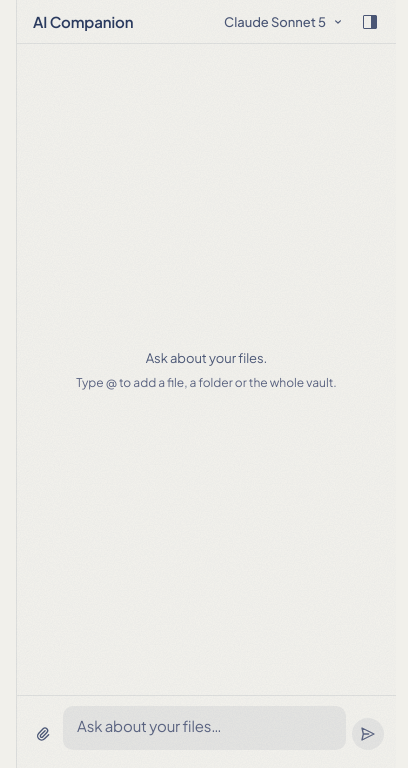
Scenario: CompanionPanel › lists the commands after a slash, filters them and completes one with Enter
The image size is (408, 768).
Type "/" into the text box named "Message the AI" at (204, 728), box [63, 706, 346, 750]
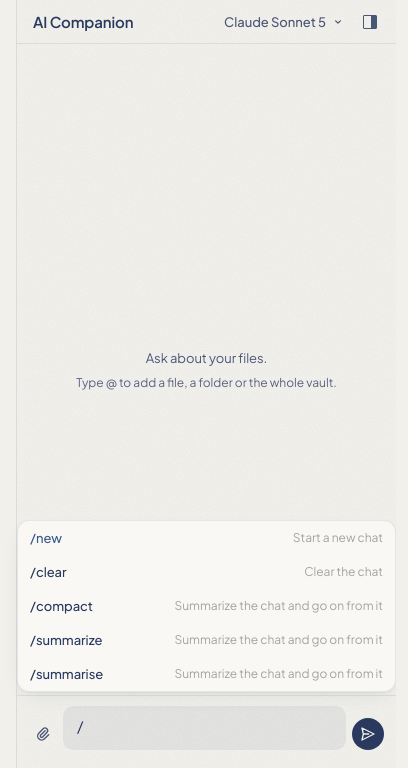
Now the option "/clear Clear the chat" is shown, box [18, 555, 395, 589]
Now the option "/summarize Summarize the chat and go on from it" is shown, box [18, 623, 395, 657]
Replace the text in the text box named "Message the AI" with "/su" at (204, 728), box [63, 706, 346, 750]
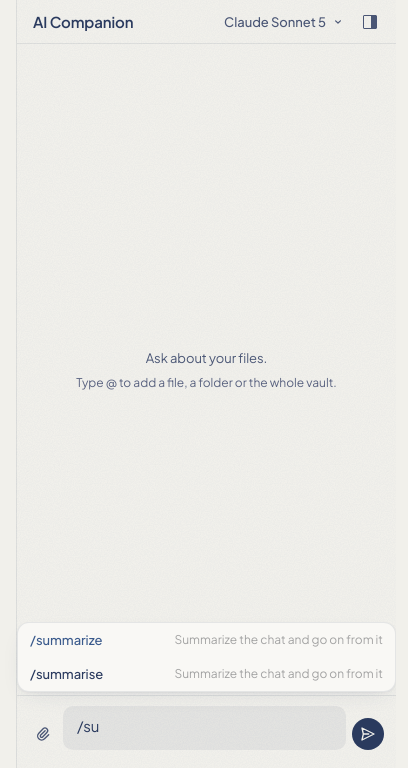
Now the option "/clear" is gone
Press Enter in the text box named "Message the AI", box [63, 706, 346, 750]
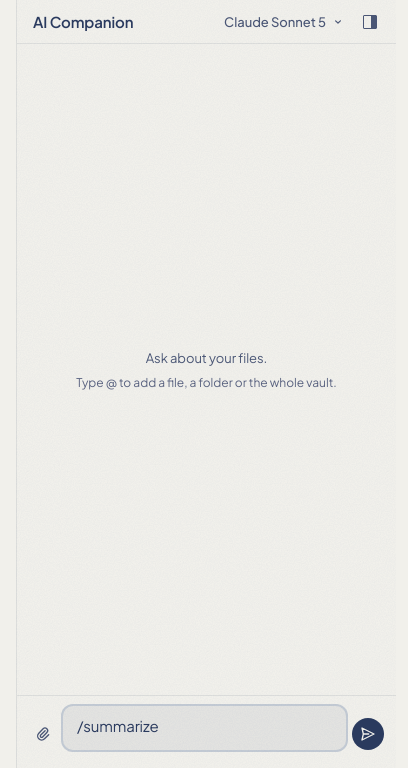
Now the text box named "Message the AI" holds "/summarize ", box [63, 706, 346, 750]
Now the list is gone
